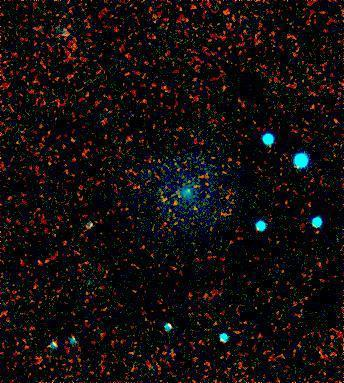star: (150, 185, 180, 215)
